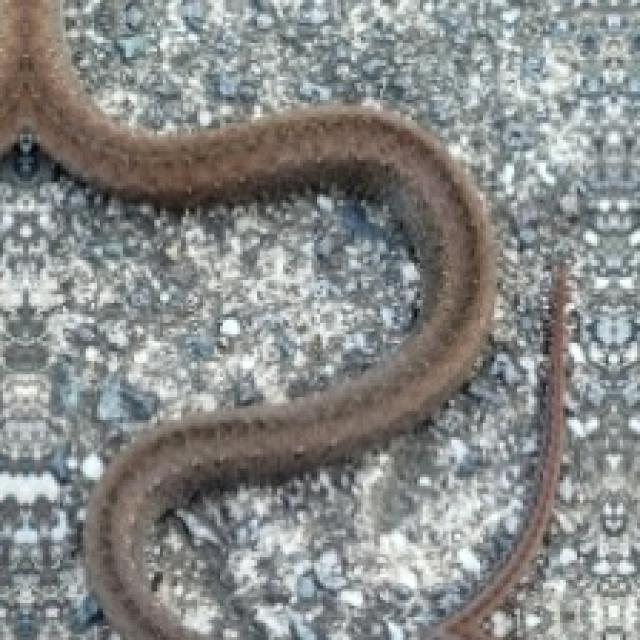reinhardts lined snake: (1, 0, 491, 640), (428, 262, 563, 639)
